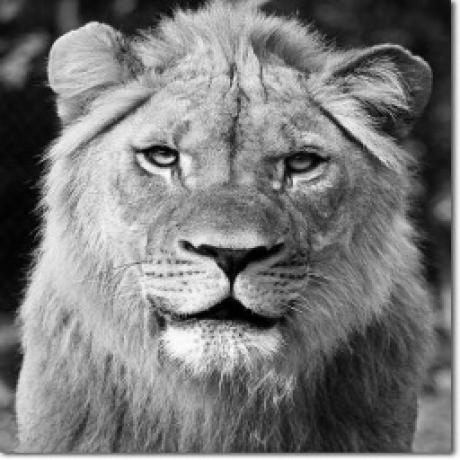Lion: (14, 3, 436, 456)
